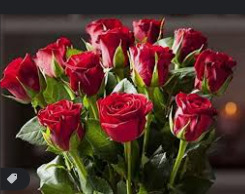RedRose: (96, 92, 153, 142), (37, 100, 85, 151), (172, 92, 217, 142), (0, 52, 42, 104), (128, 43, 175, 88), (193, 51, 237, 97), (65, 51, 104, 98), (97, 27, 134, 73), (172, 27, 209, 72), (33, 38, 75, 76), (84, 17, 124, 53), (131, 17, 166, 48)
